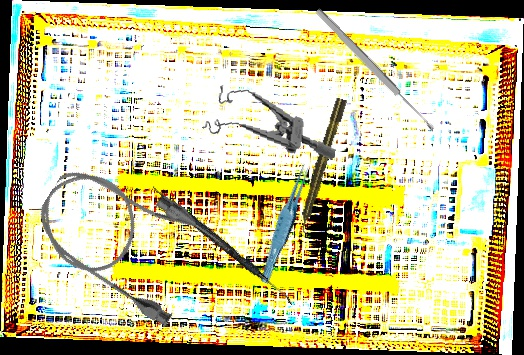Cannula: (21, 143, 233, 333)
Handpiece: (294, 97, 349, 234)
Spatula Surgical: (148, 185, 298, 305)
Speculum: (200, 82, 343, 161)
Surgical Spoon: (313, 6, 437, 134)
Tissue Forceps: (251, 162, 320, 285)
